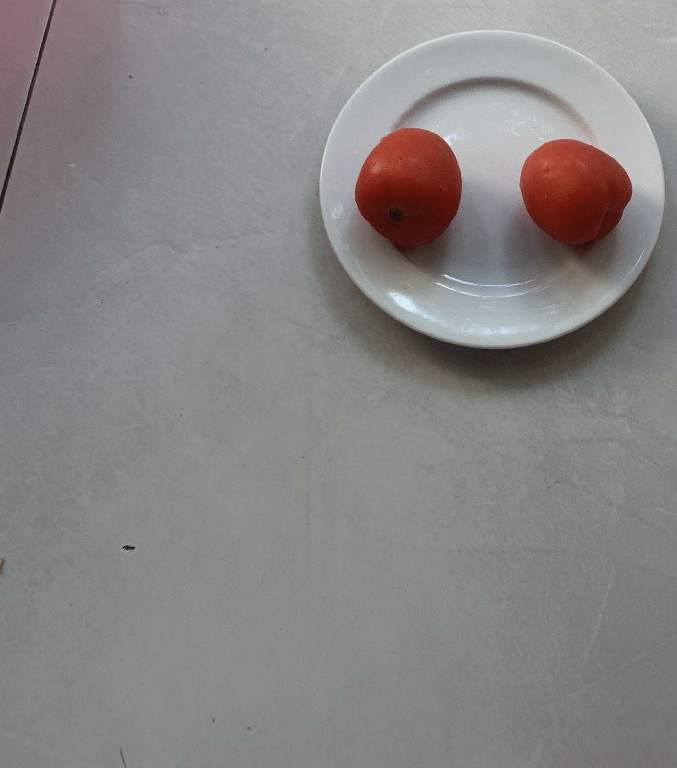OK: (519, 132, 633, 254), (351, 124, 462, 248)
